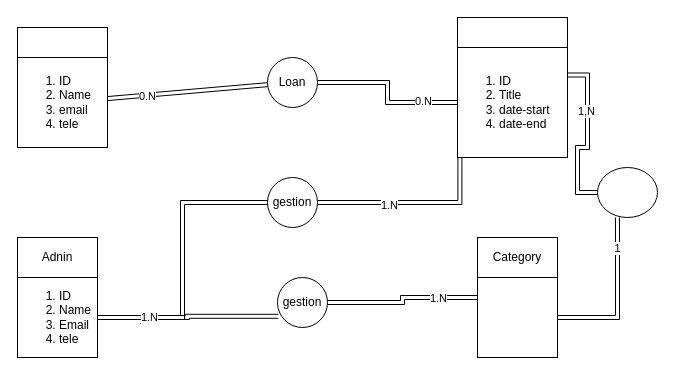
Some shapes in this 675 by 376 pixel diagram are drawn without their labels. The centre of each missing label's shape, as x and y in pixels:
"Book" goes at (x=512, y=32).
"ID Name" goes at (x=517, y=317).
"Include" goes at (x=627, y=192).
"user" goes at (x=62, y=42).
